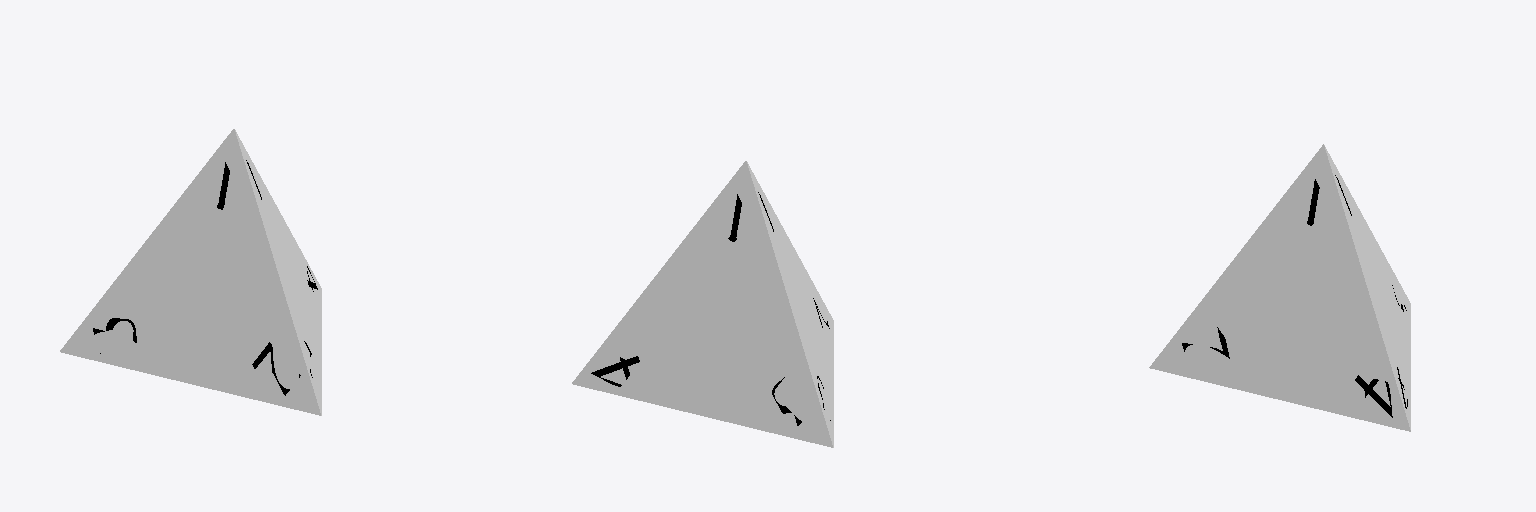
File: StandardD4.obj
3 views of the same model, side by side, from view 1: azimuth 30°, elevation 25°; view 2: azimuth 150°, elevation 25°; view 3: azimuth 270°, elevation 25° (orthographic).
Parts seen in each view (by area): view 1: Standard_D4_Solid.001; view 2: Standard_D4_Solid.001; view 3: Standard_D4_Solid.001.
Boxes of the visible parts, <box> form: Standard_D4_Solid.001: <box>60,129,321,415</box>; Standard_D4_Solid.001: <box>572,161,833,447</box>; Standard_D4_Solid.001: <box>1149,144,1410,431</box>.
Bounding box in the file's own units: 2.12 × 1.73 × 1.84.